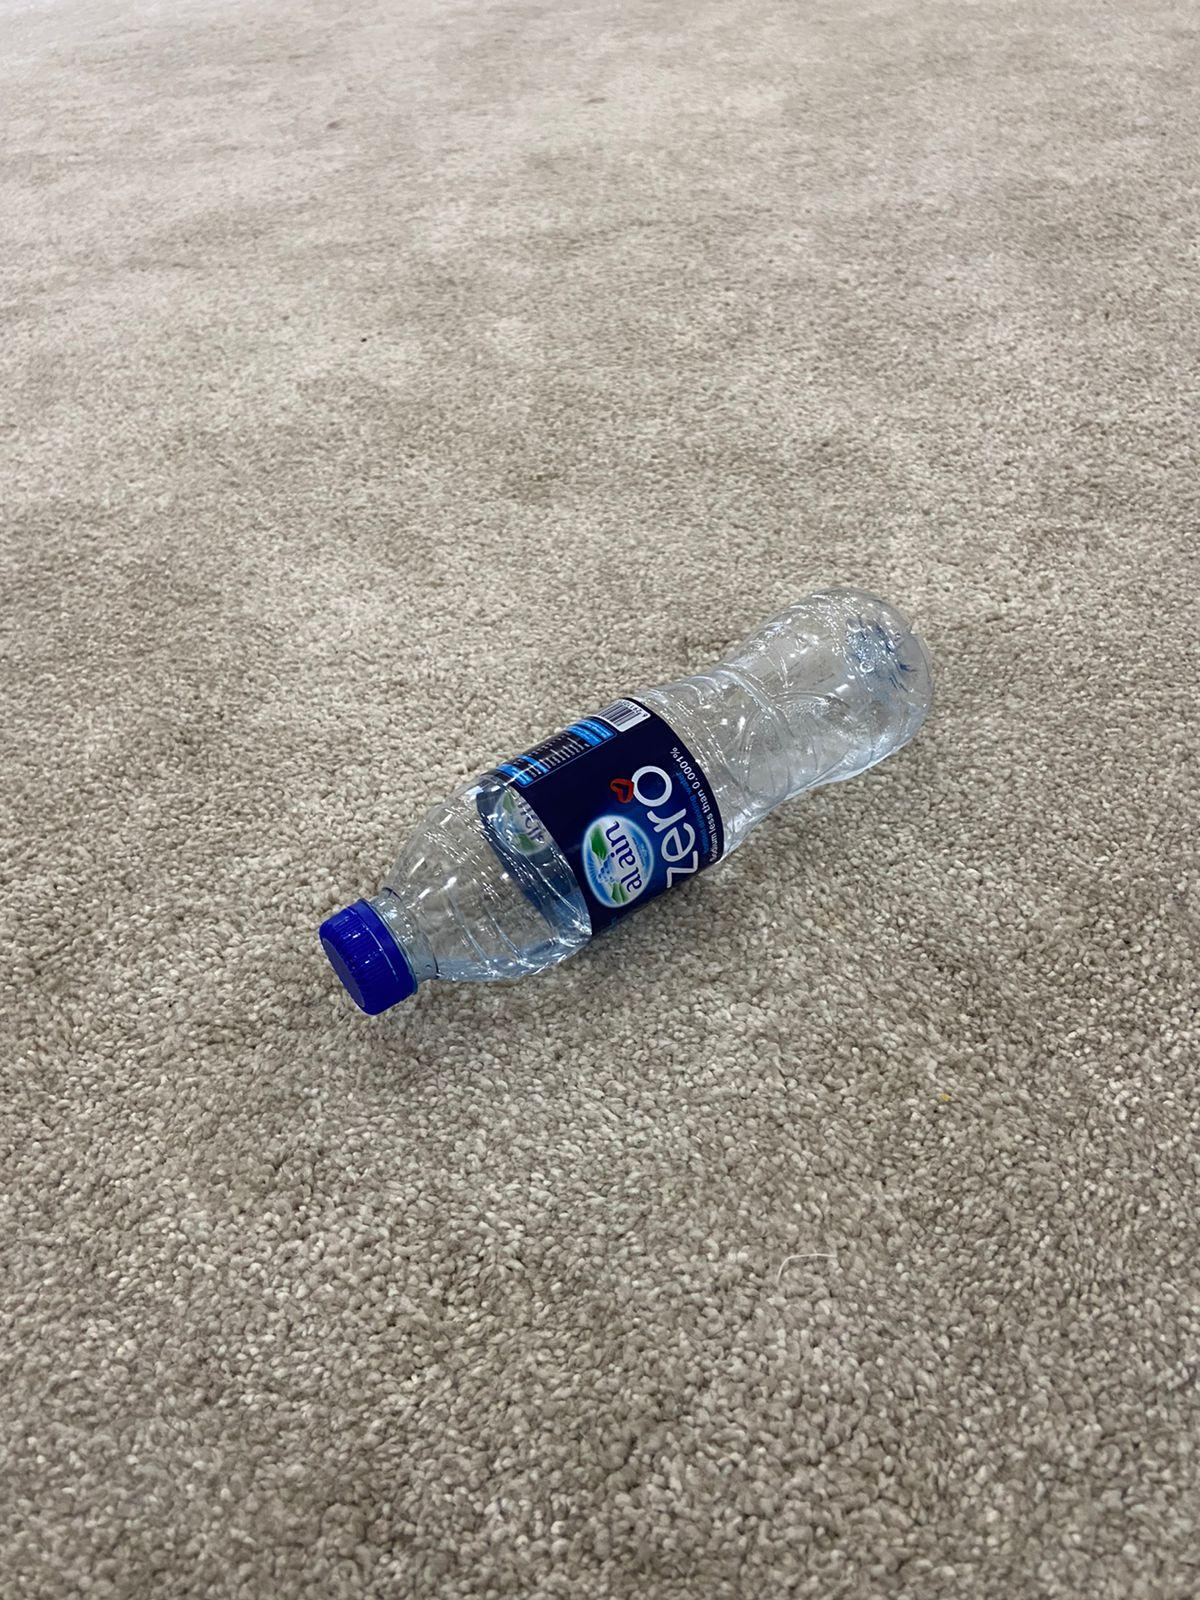bottle: (323, 585, 933, 1036)
